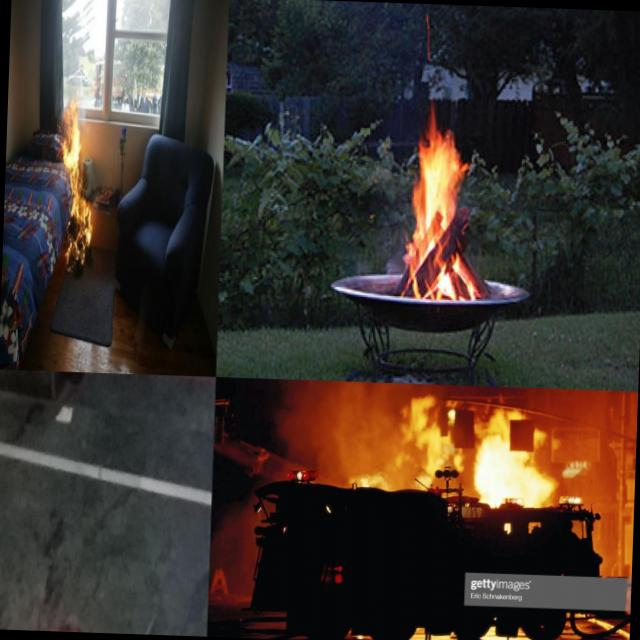fire: (402, 114, 478, 293), (56, 97, 97, 264), (470, 433, 563, 505), (398, 394, 455, 482), (0, 608, 129, 633), (354, 472, 386, 491)
smoke: (274, 379, 400, 472)
